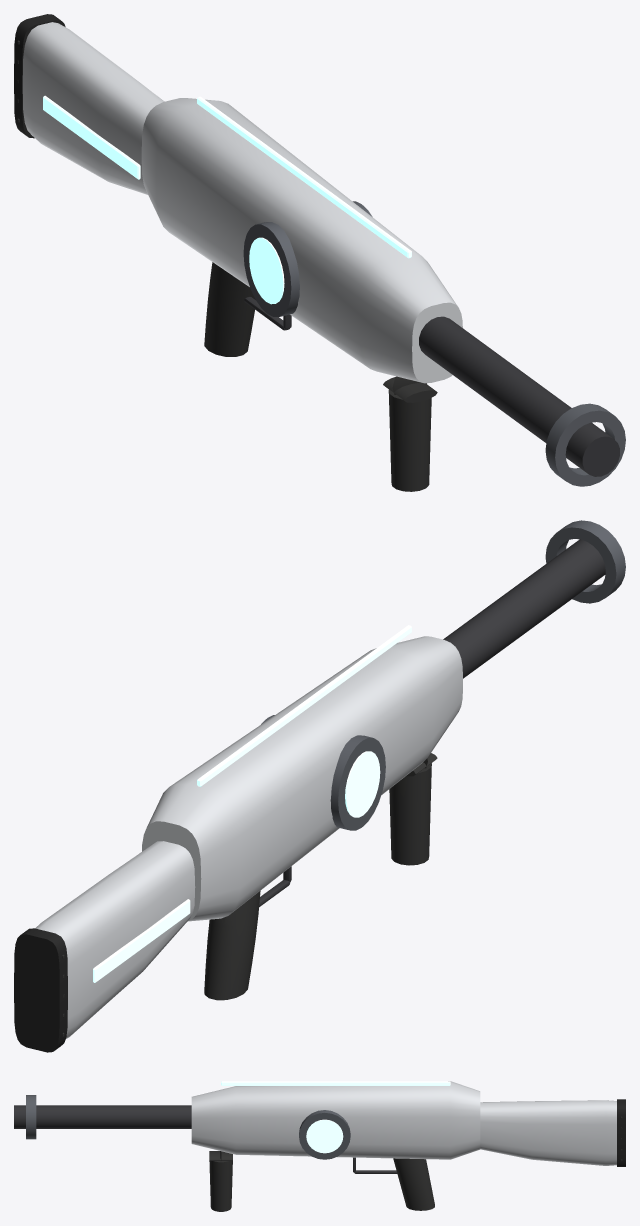
Rendered from pulsemg.glb.
3 renders of one model, top to bottom at view 1: azimuth 30°, elevation 25°; view 2: azimuth 150°, elevation 25°; view 3: azimuth 270°, elevation 25°, orthographic. The views are drawn at different scales.
Parts seen in each view (by area): view 1: Body; view 2: Body; view 3: Body.
Part boxes in pixels (left/top/right/bottom): Body: left=14, top=14, right=625, bottom=491; Body: left=14, top=520, right=625, bottom=1052; Body: left=14, top=1081, right=625, bottom=1211.
Size of the model in its own units: 0.082 by 0.188 by 0.827.
